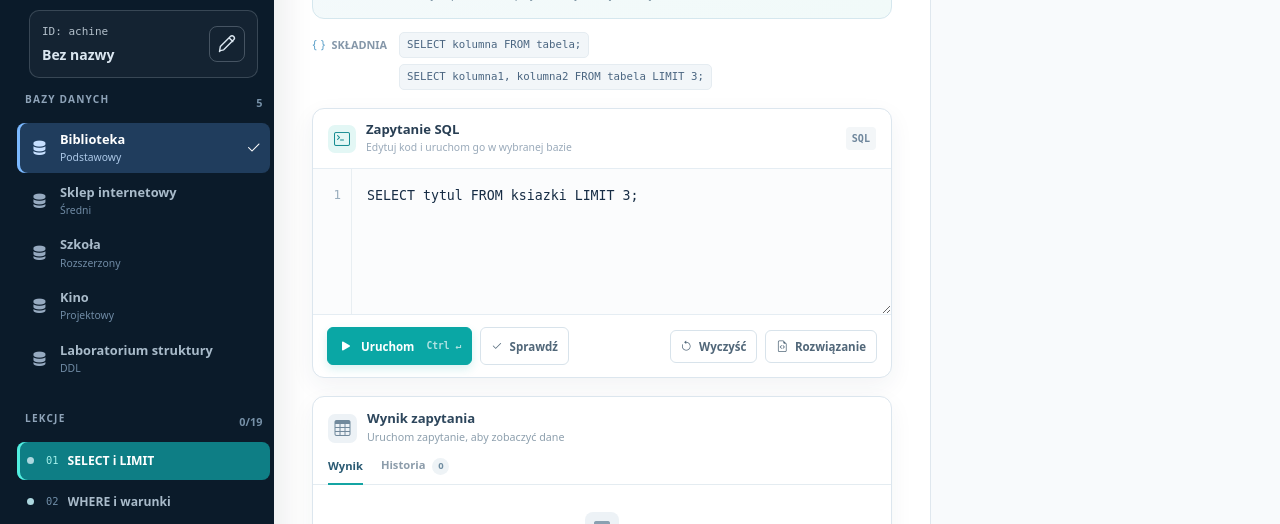
Test: keeps a separate SQL draft for each task across task changes and reloads
The width and height of the screenshot is (1280, 524).
Later steps or results of the test are not shown.
(page scrolled)
Replace the text in the text box named "Zapytanie SQL" with "SELECT tytul FROM ksiazki WHERE id = 1;": x=622, y=242 [352,169,891,314]
(page scrolled)
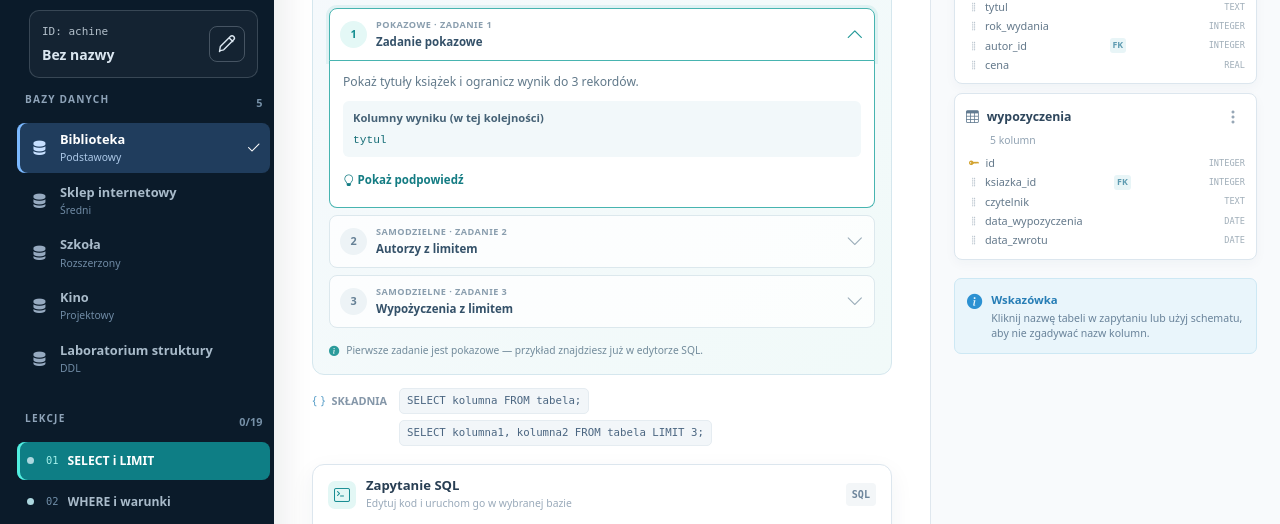
Click the button "2 Samodzielne · Zadanie 2 Autorzy z limitem": x=411, y=231 [329,215,875,268]
(page scrolled)
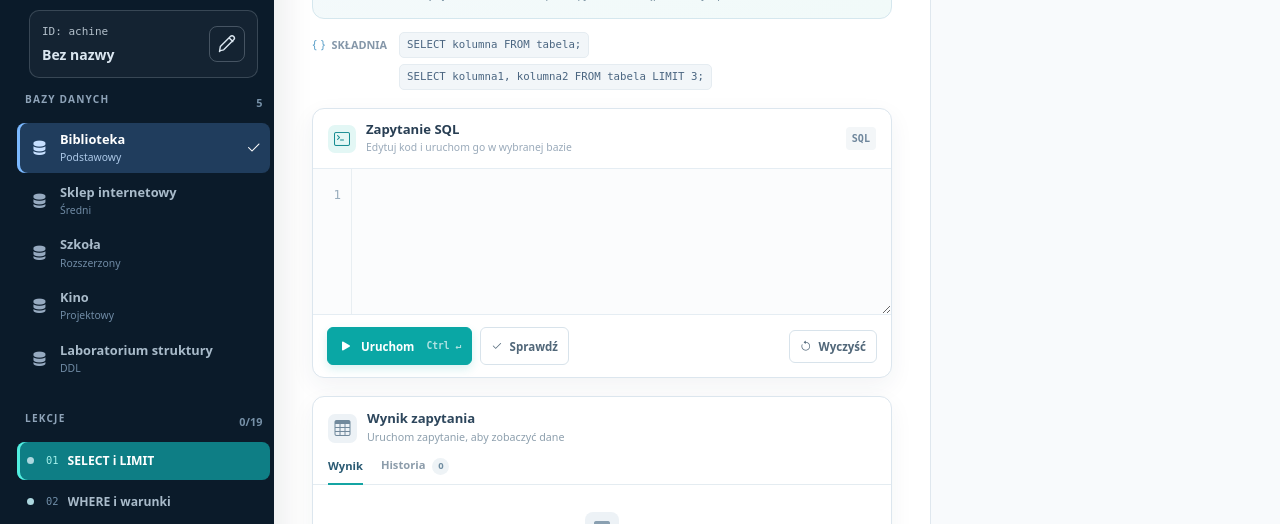
Check: the text box named "Zapytanie SQL" is empty, box [352,169,891,314]
